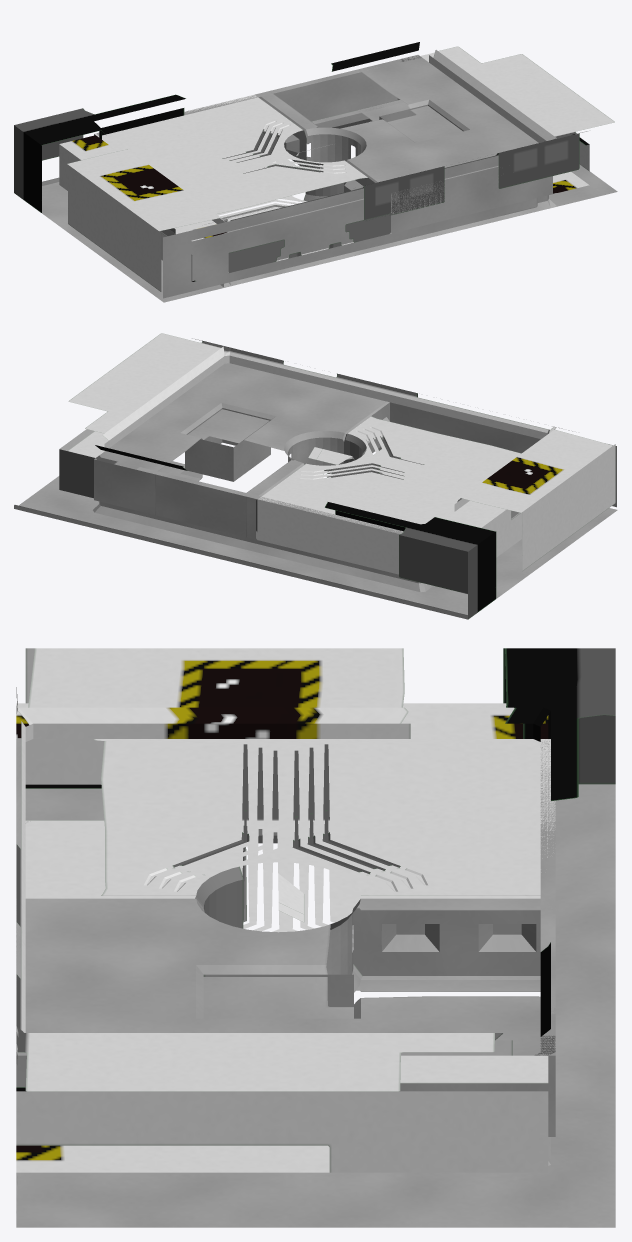
File: sliding_blast_door_v2.obj
3 views of the same model, one above another, from view 1: azimuth 30°, elevation 25°; view 2: azimuth 150°, elevation 25°; view 3: azimuth 270°, elevation 25° (orthographic). The views are drawn at different scales.
Parts seen in each view (by area): view 1: DoorFrame, DoorLeft, DoorRight, Window; view 2: DoorFrame, DoorLeft, DoorRight, Window; view 3: DoorFrame, DoorRight, DoorLeft, Window.
Part boxes in pixels (x1,y1,x2,y2): DoorFrame: (14, 42, 617, 302); DoorLeft: (258, 55, 552, 233); DoorRight: (94, 94, 390, 272); Window: (387, 106, 462, 142); DoorFrame: (14, 333, 617, 619); DoorLeft: (94, 363, 389, 539); DoorRight: (256, 416, 521, 574); Window: (188, 409, 269, 443); DoorFrame: (16, 648, 615, 1227); DoorRight: (25, 739, 555, 952); DoorLeft: (16, 898, 555, 1136); Window: (203, 977, 353, 1018).
Size of the model in its own units: 7 by 1 by 4.
